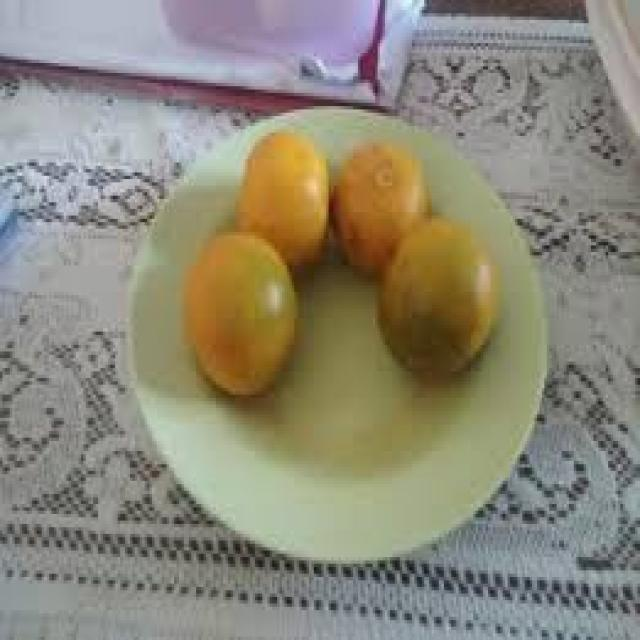jeruk: (184, 114, 506, 425)
